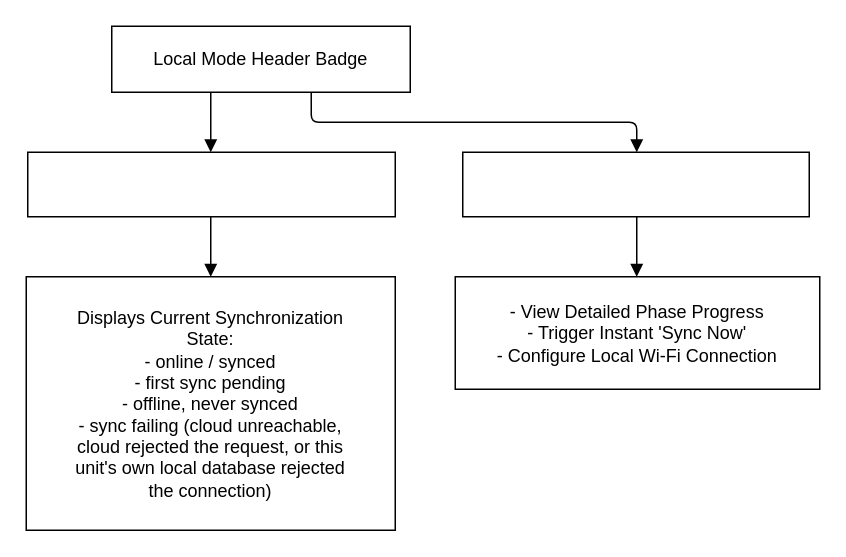
The diagram is 846 pixels wide and 557 high, and some of its shapes have lost their labels. Here are the shapes that lost their labels. From the top down, the centre of each, then its label:
At point 210,184: "Polls GET /local/status (Every 15 s)".
At point 635,184: "Click Badge: Opens Modal Menu".
